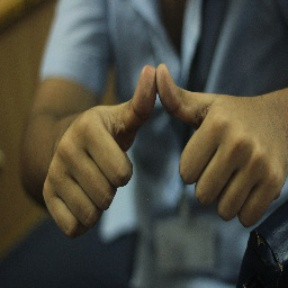A: (91, 58, 230, 182)
